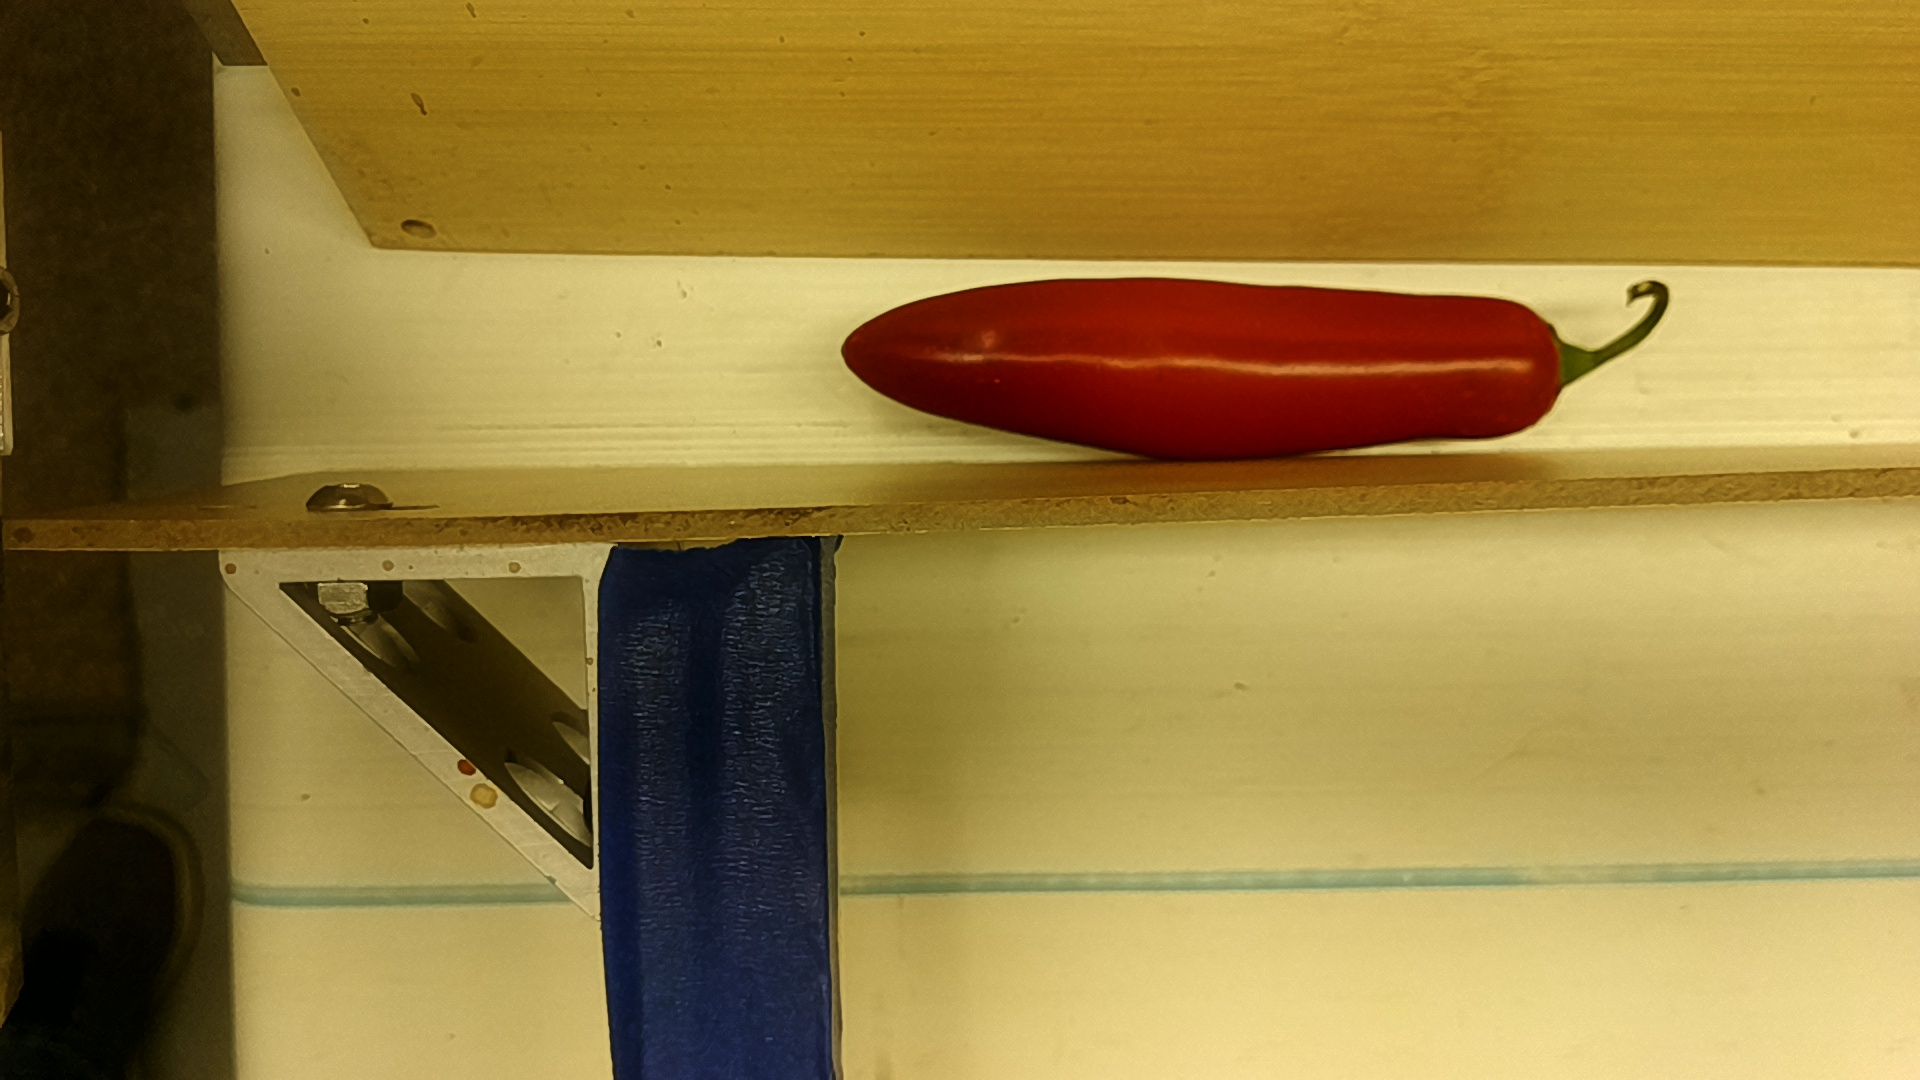Cut Point: (1513, 291, 1588, 436)
